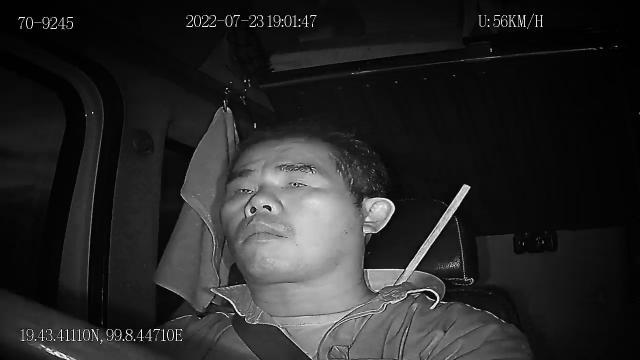SafeDriving: (274, 156, 324, 194), (276, 168, 322, 195), (227, 176, 260, 201)
Seatbelt: (230, 312, 314, 360)
